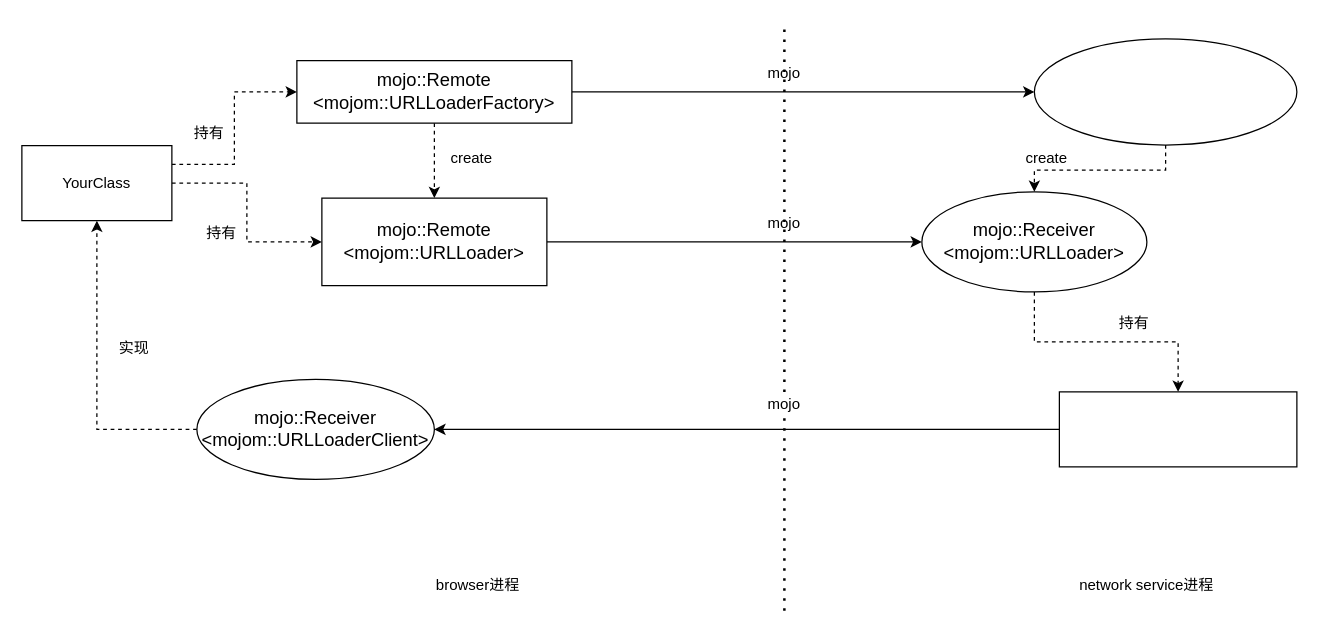
Some shapes in this 1319 by 634 pixel diagram are drawn without their labels. The shapes that lost their labels are listed below. From the top down, each one's centre as x and y in pixels, then its label:
At (1165,91): "mojo::Receiver < mojom:: URLLoaderFactory>".
At (1177,429): "mojo::Remote < mojom:: URLLoaderClient>".
